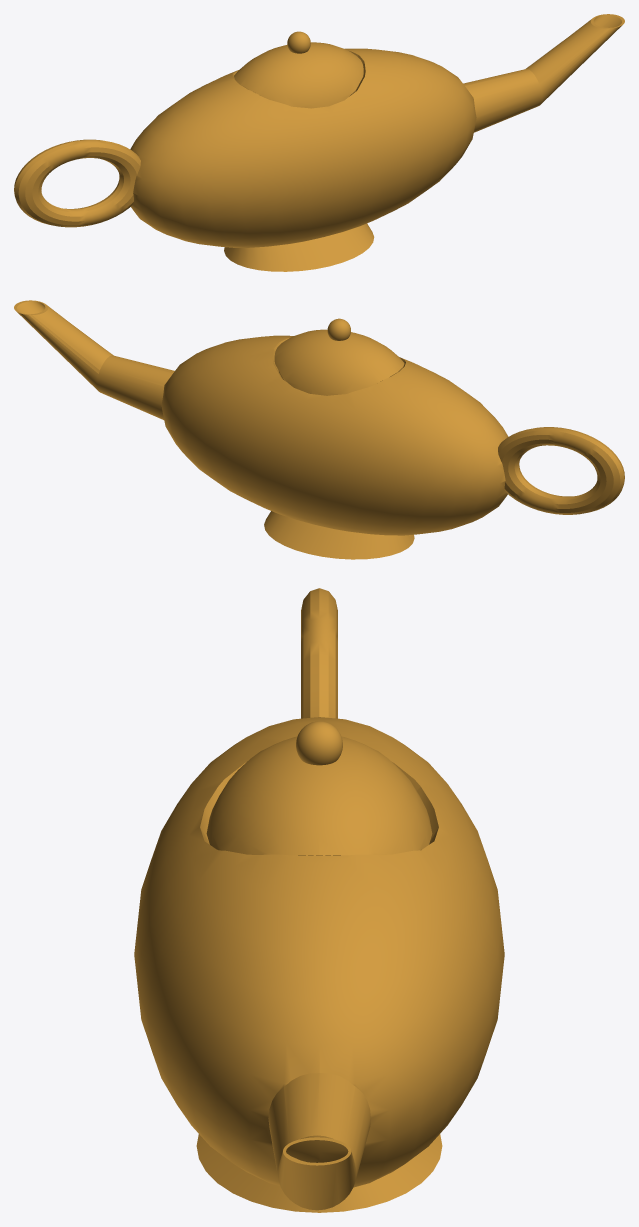
The model's file is genie.glb.
3 renders of one model, top to bottom at view 1: azimuth 30°, elevation 25°; view 2: azimuth 150°, elevation 25°; view 3: azimuth 270°, elevation 25°, orthographic. The views are drawn at different scales.
Visible parts, largest first — view 1: genie, genie_couvercle; view 2: genie, genie_couvercle; view 3: genie, genie_couvercle.
Part boxes in pixels (box(x1,y1,x2,y2)): genie: box(14, 14, 624, 271); genie_couvercle: box(234, 31, 363, 108); genie: box(14, 300, 624, 559); genie_couvercle: box(274, 318, 404, 395); genie: box(134, 588, 504, 1212); genie_couvercle: box(206, 721, 432, 855).
Size of the model in its own units: 2.09 by 0.6928 by 0.5507.
1 material, 1 textured.
